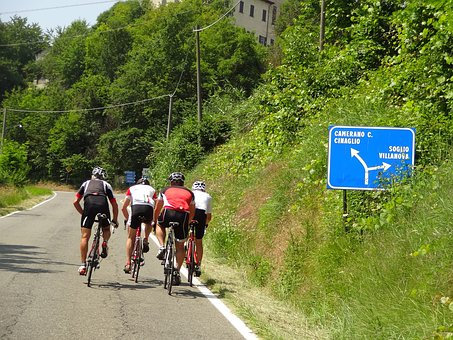bikerider: (116, 172, 162, 290), (155, 167, 195, 298), (73, 164, 110, 289)
